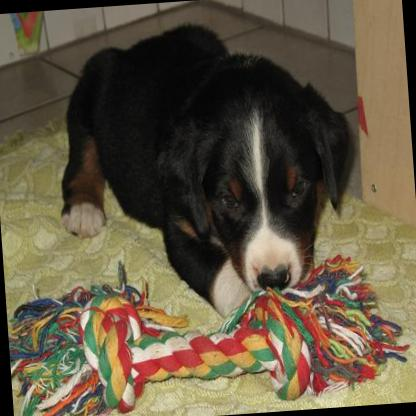Appenzeller: (48, 11, 367, 333)
